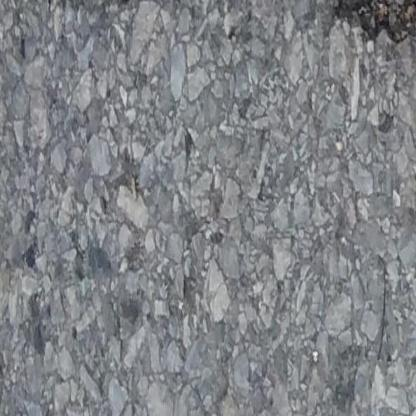Cracks: (252, 0, 416, 45), (31, 0, 157, 6)
